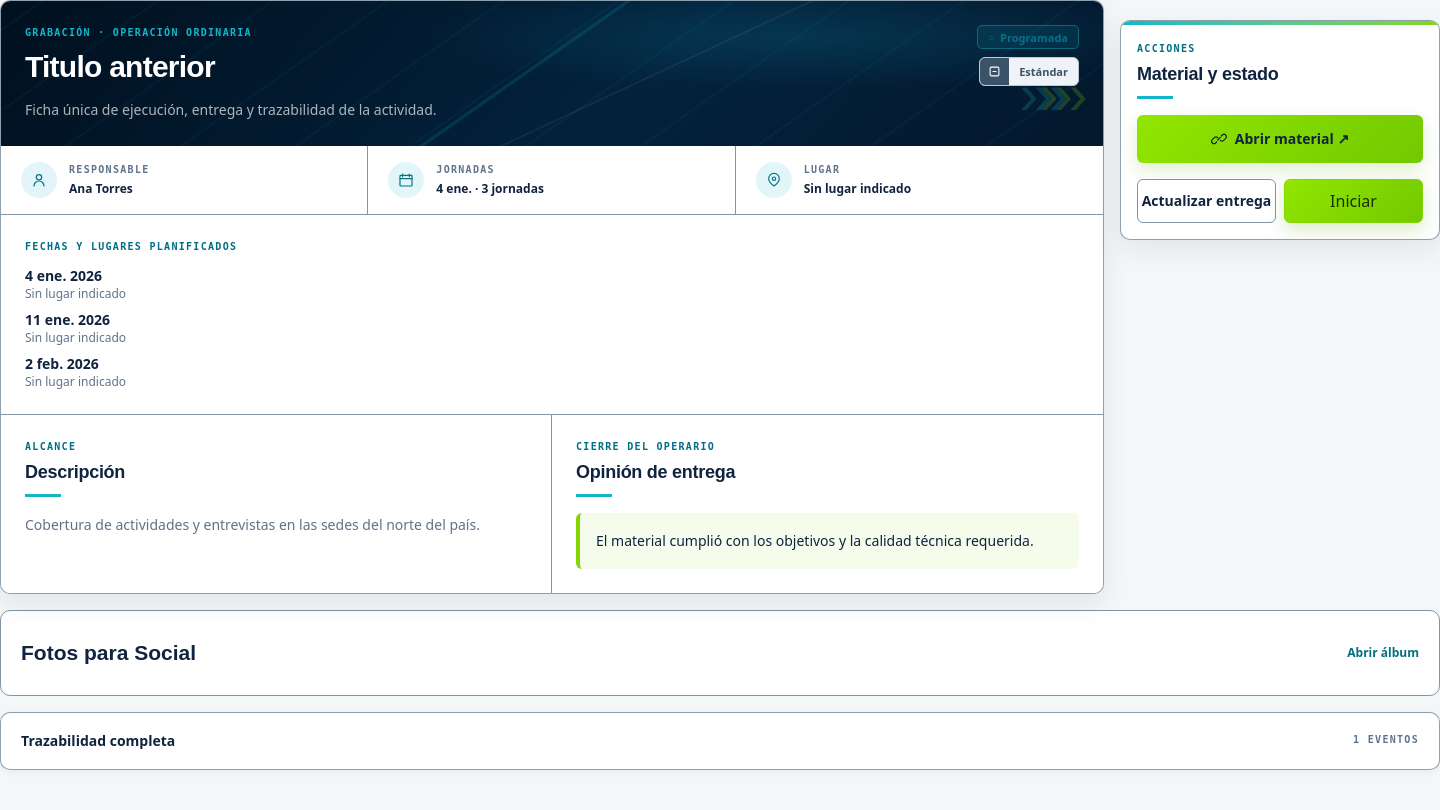
Test: oculta acciones obsoletas si se guardó pero la lectura posterior falló
Click the button "Iniciar".
click(1354, 201)  # box x1=1284 y1=179 x2=1423 y2=223
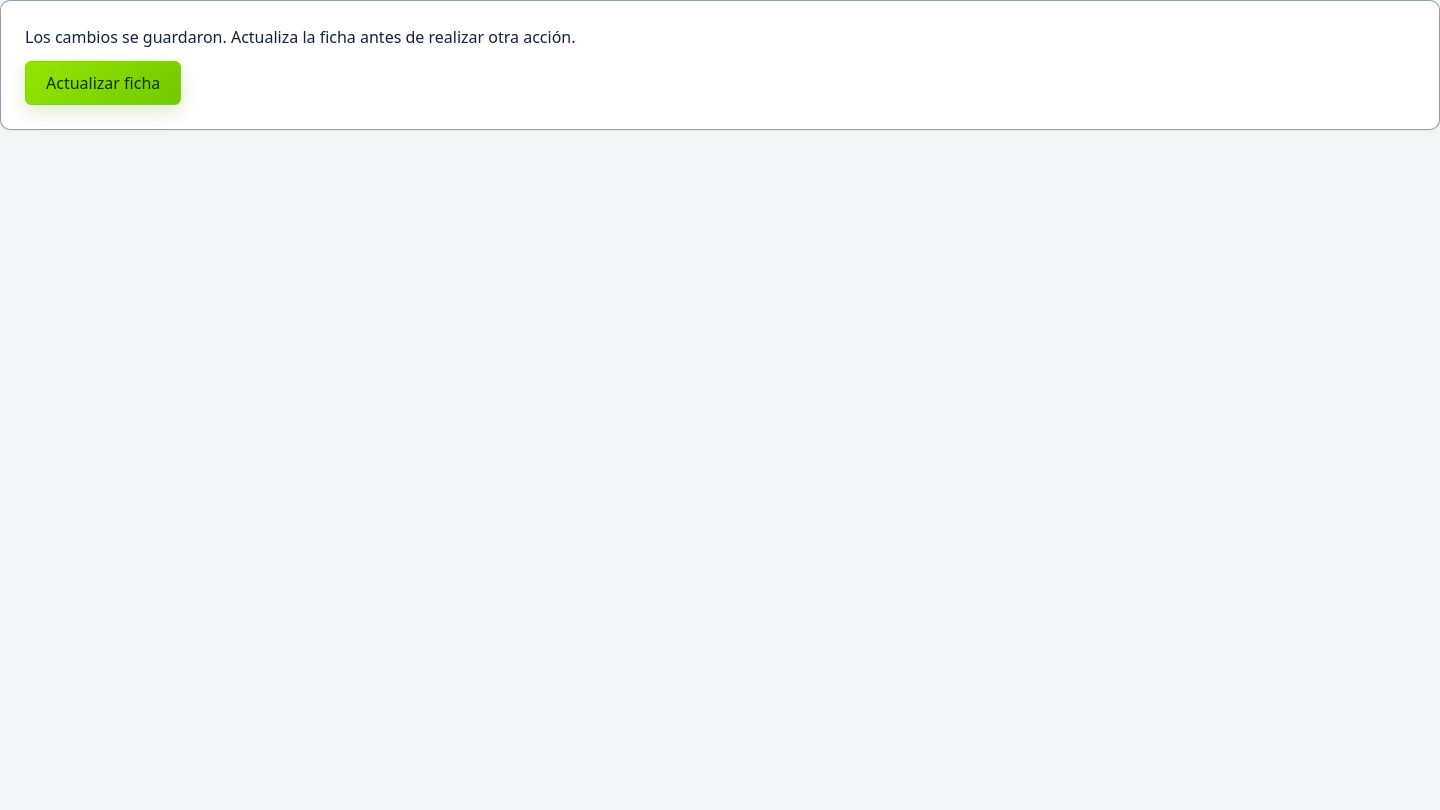
Now the button "Actualizar ficha" is shown, box x1=25 y1=61 x2=181 y2=105
Now the button "Iniciar" is gone
